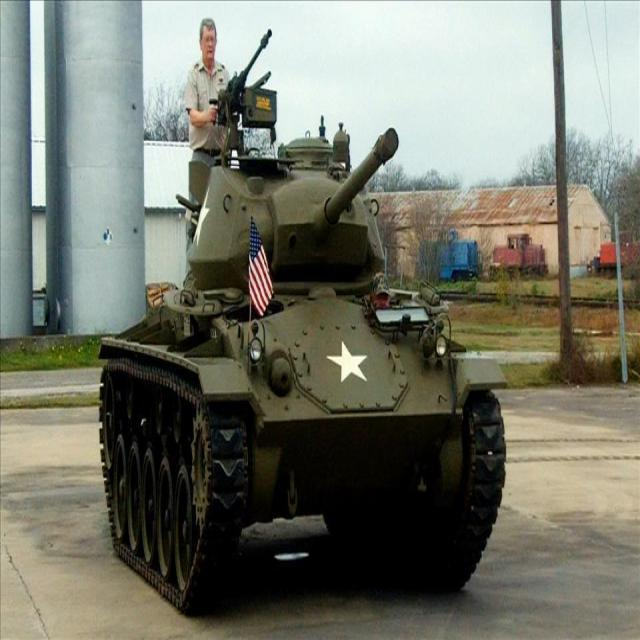Tanks: (90, 60, 510, 592)
